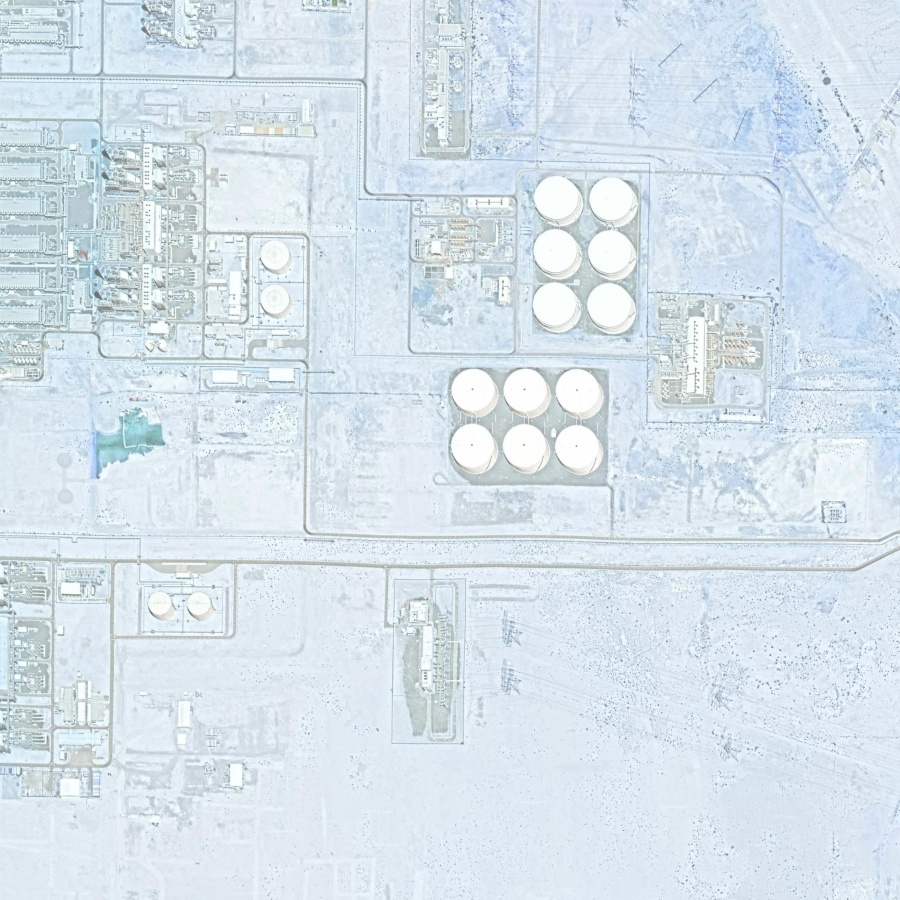PowerPlant: (388, 143, 768, 501)
